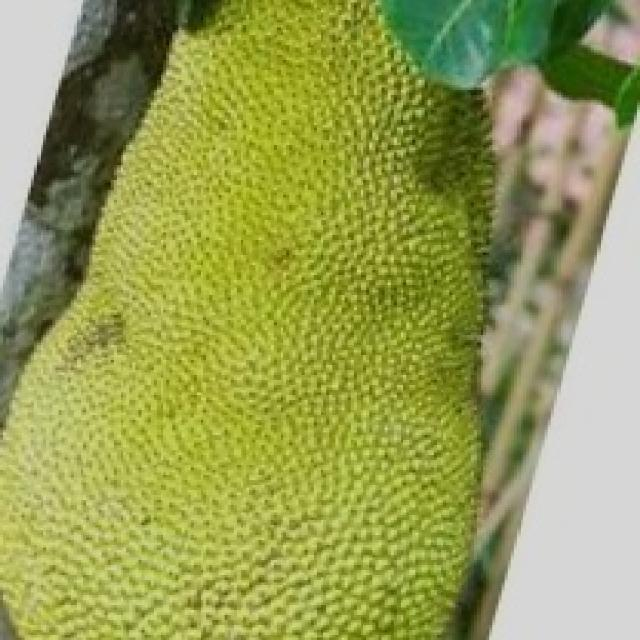Fruit: (216, 0, 584, 395), (268, 250, 550, 640)
